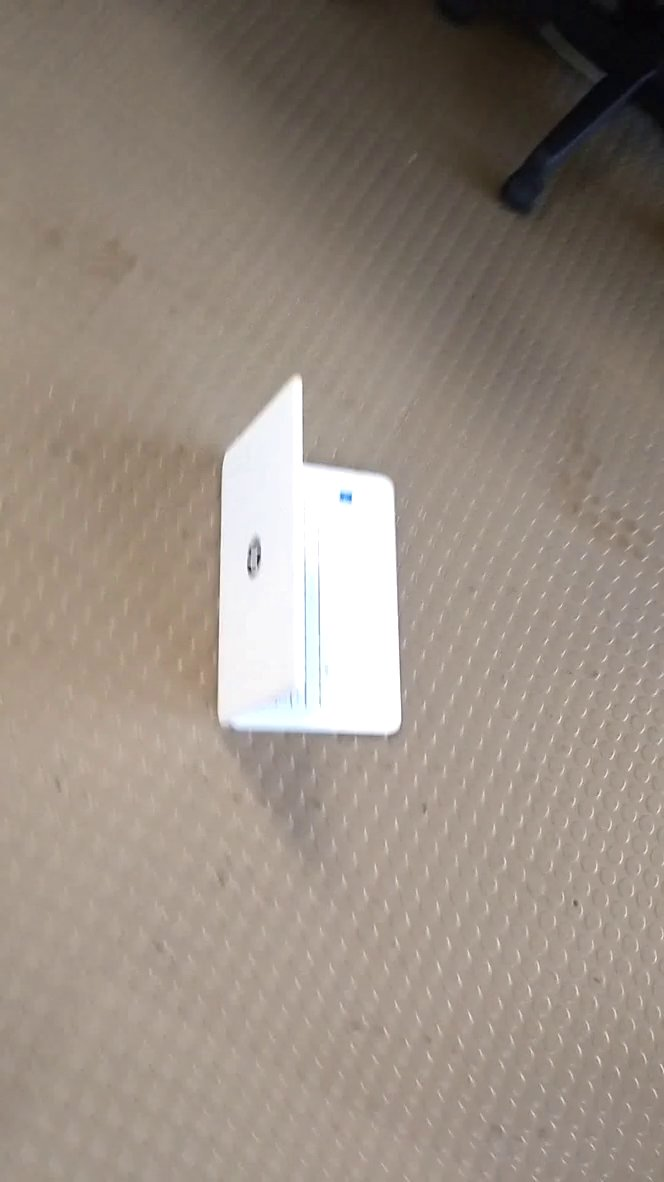laptop: (207, 366, 421, 756)
